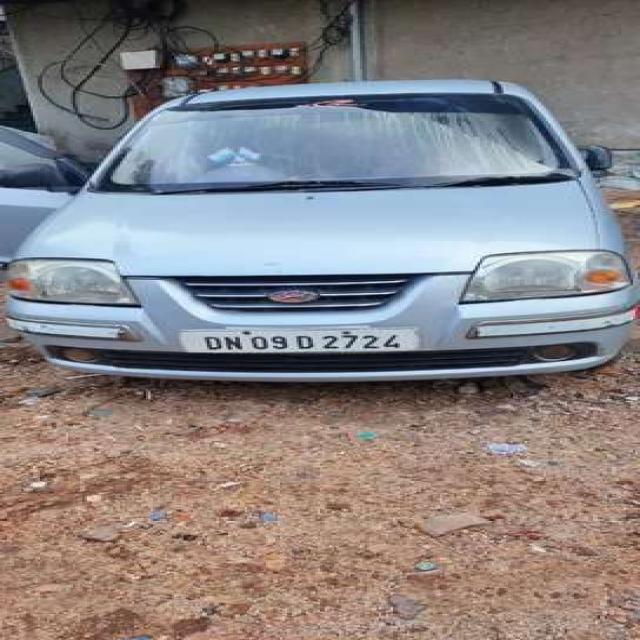licenseplate: (182, 327, 423, 352)
